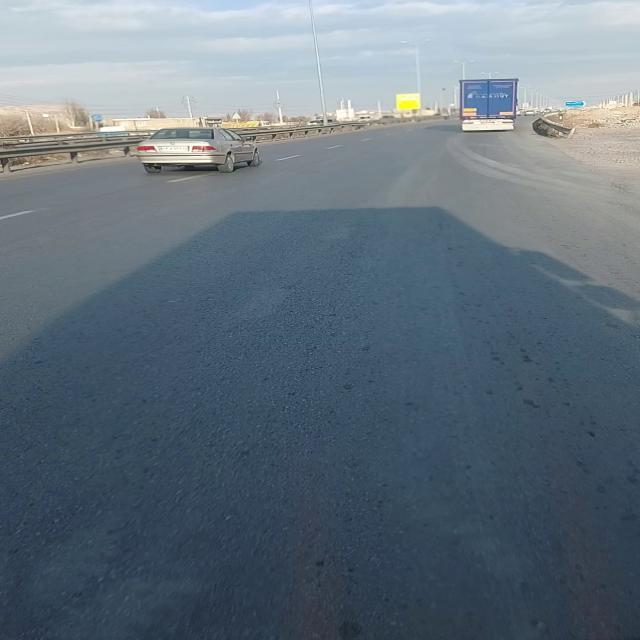Car: (135, 126, 261, 174), (524, 110, 536, 117)
Truck: (457, 77, 521, 135)
